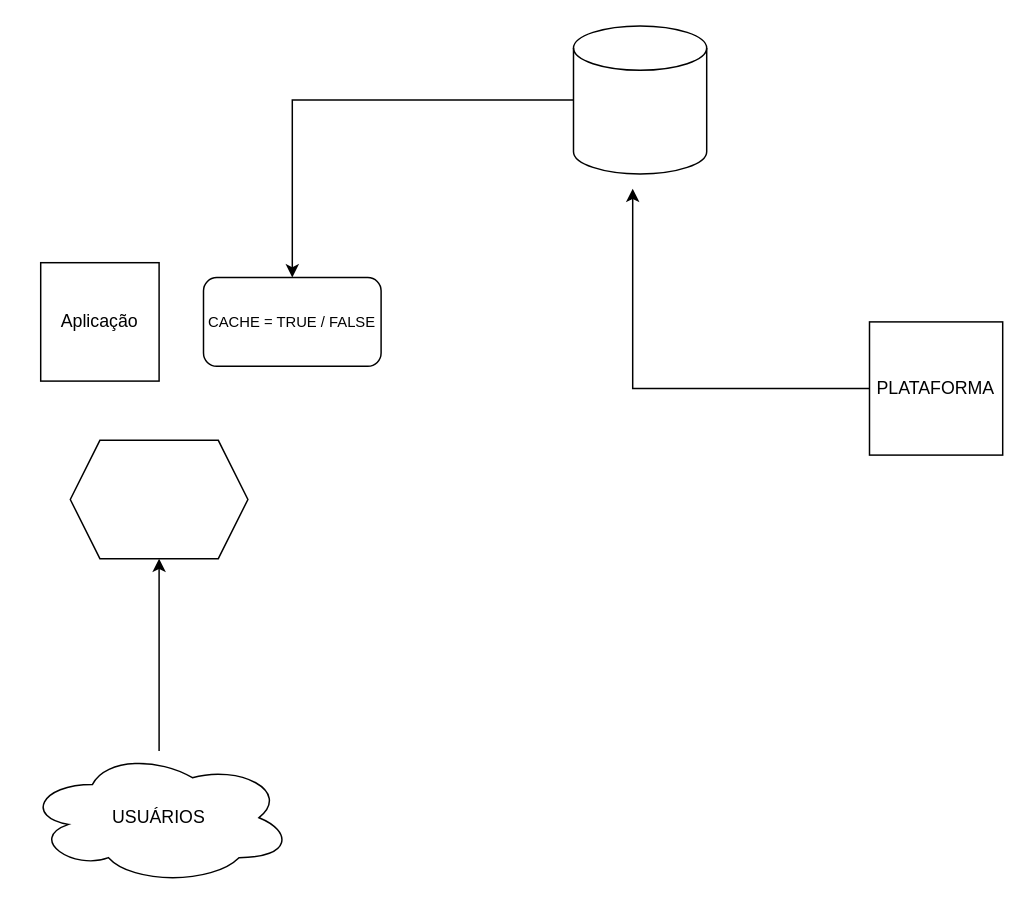
The diagram is 1029 pixels wide and 910 high, and some of its shapes have lost their labels. Here are the shapes that lost their labels. From the top down, the centre of each, then its label:
[639,99]: BANCO
[158,499]: CACHE
